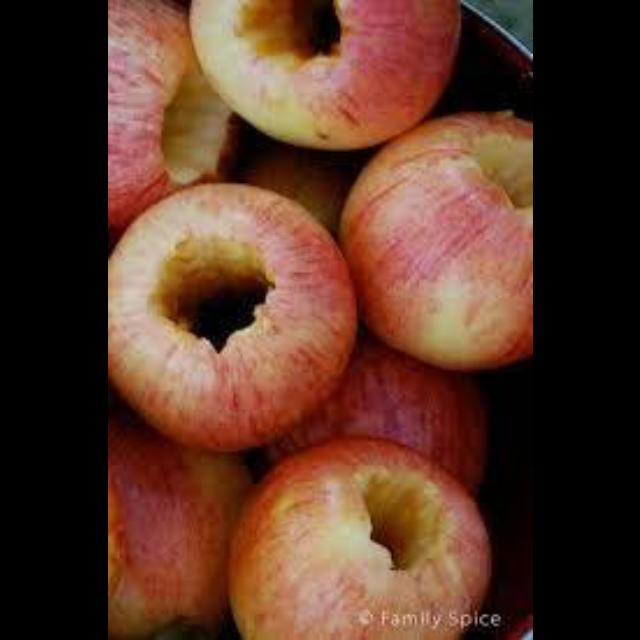apple: (109, 186, 354, 449), (228, 440, 489, 638), (337, 112, 531, 368), (191, 0, 456, 149), (268, 333, 484, 491), (107, 398, 247, 638), (107, 0, 233, 235), (242, 142, 354, 233)
